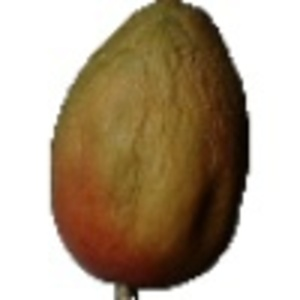mamão: (41, 2, 269, 294)
